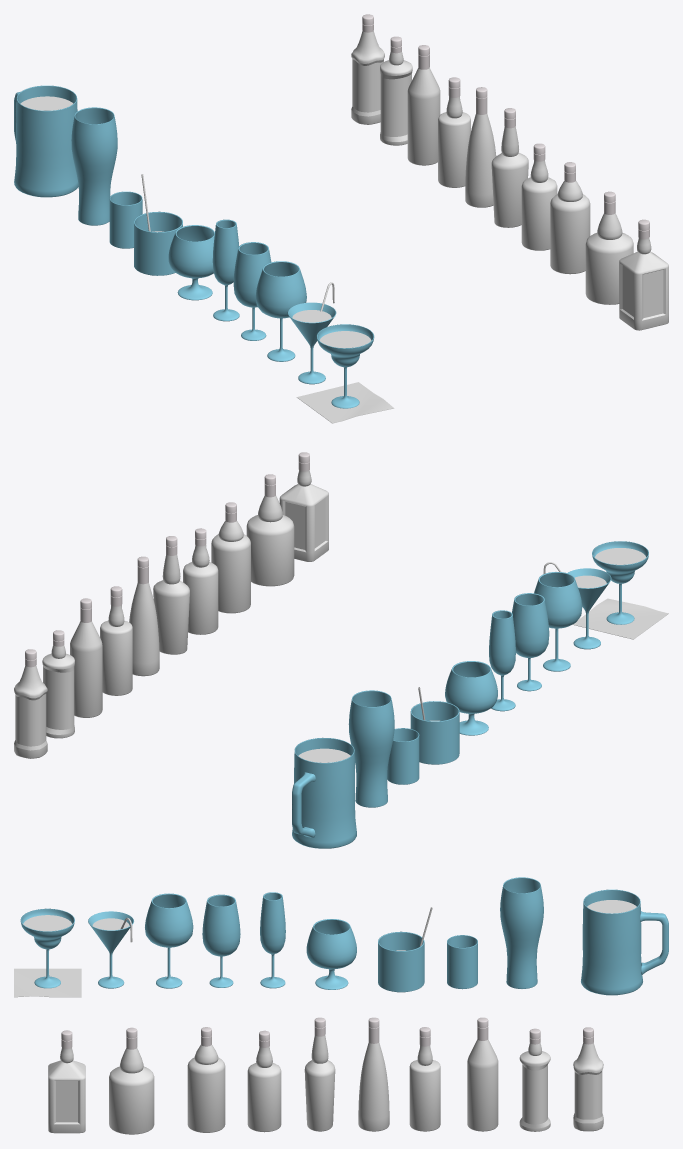
The model's file is Bar_props.fbx.
The picture shows the model from 3 angles, top to bottom: view 1: azimuth 30°, elevation 25°; view 2: azimuth 150°, elevation 25°; view 3: azimuth 270°, elevation 25°; orthographic projection. The views are drawn at different scales.
Parts seen in each view (by area): view 1: SM_glasses_10, SM_glasses_9, Bottle_1, Bottle_9, Bottle_4, Bottle_3, Bottle_10, Bottle_2, Bottle_6, Bottle_5, Bottle_8, SM_glasses_3 (+10 smaller); view 2: SM_glasses_10, SM_glasses_9, Bottle_4, Bottle_1, Bottle_9, Bottle_10, Bottle_3, Bottle_6, Bottle_2, Bottle_8, SM_glasses_6, Bottle_5 (+10 smaller); view 3: SM_glasses_10, SM_glasses_9, Bottle_4, Bottle_9, Bottle_1, Bottle_3, Bottle_5, SM_glasses_7, Bottle_8, Bottle_7, Bottle_10, SM_glasses_3 (+11 smaller).
Part boxes in pixels (x1,y1,x2,y2): SM_glasses_10: (14, 85, 78, 197); SM_glasses_9: (71, 107, 117, 225); Bottle_1: (619, 219, 668, 330); Bottle_9: (550, 162, 590, 274); Bottle_4: (585, 191, 633, 304); Bottle_3: (407, 45, 440, 165); Bottle_10: (491, 108, 528, 227); Bottle_2: (380, 36, 412, 145); Bottle_6: (351, 14, 384, 124); Bottle_5: (521, 143, 557, 250); Bottle_8: (438, 77, 470, 187); SM_glasses_3: (255, 261, 306, 361); SM_glasses_10: (292, 737, 356, 848); SM_glasses_9: (348, 690, 394, 807); Bottle_4: (246, 474, 294, 586); Bottle_1: (279, 452, 328, 561); Bottle_9: (211, 502, 250, 613); Bottle_10: (153, 536, 189, 654); Bottle_3: (70, 598, 102, 717); Bottle_6: (14, 649, 47, 758); Bottle_2: (42, 630, 74, 738); Bottle_8: (100, 586, 132, 695); SM_glasses_6: (445, 661, 497, 735); Bottle_5: (183, 528, 218, 634); SM_glasses_10: (581, 889, 668, 995); SM_glasses_9: (500, 877, 543, 988); Bottle_4: (109, 1027, 154, 1134); Bottle_9: (187, 1027, 225, 1132); Bottle_1: (48, 1030, 85, 1133); Bottle_3: (467, 1017, 498, 1131); Bottle_5: (247, 1030, 281, 1132); SM_glasses_7: (378, 931, 424, 992); Bottle_8: (409, 1027, 440, 1131); Bottle_7: (358, 1017, 389, 1131); Bottle_10: (304, 1017, 335, 1131); SM_glasses_3: (145, 893, 193, 988).
Size of the model in its own units: 101 by 30.1 by 169.
